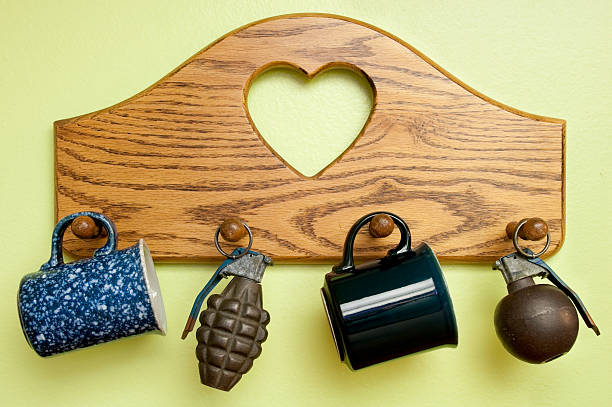e1: (495, 236, 604, 367), (188, 248, 270, 394)
